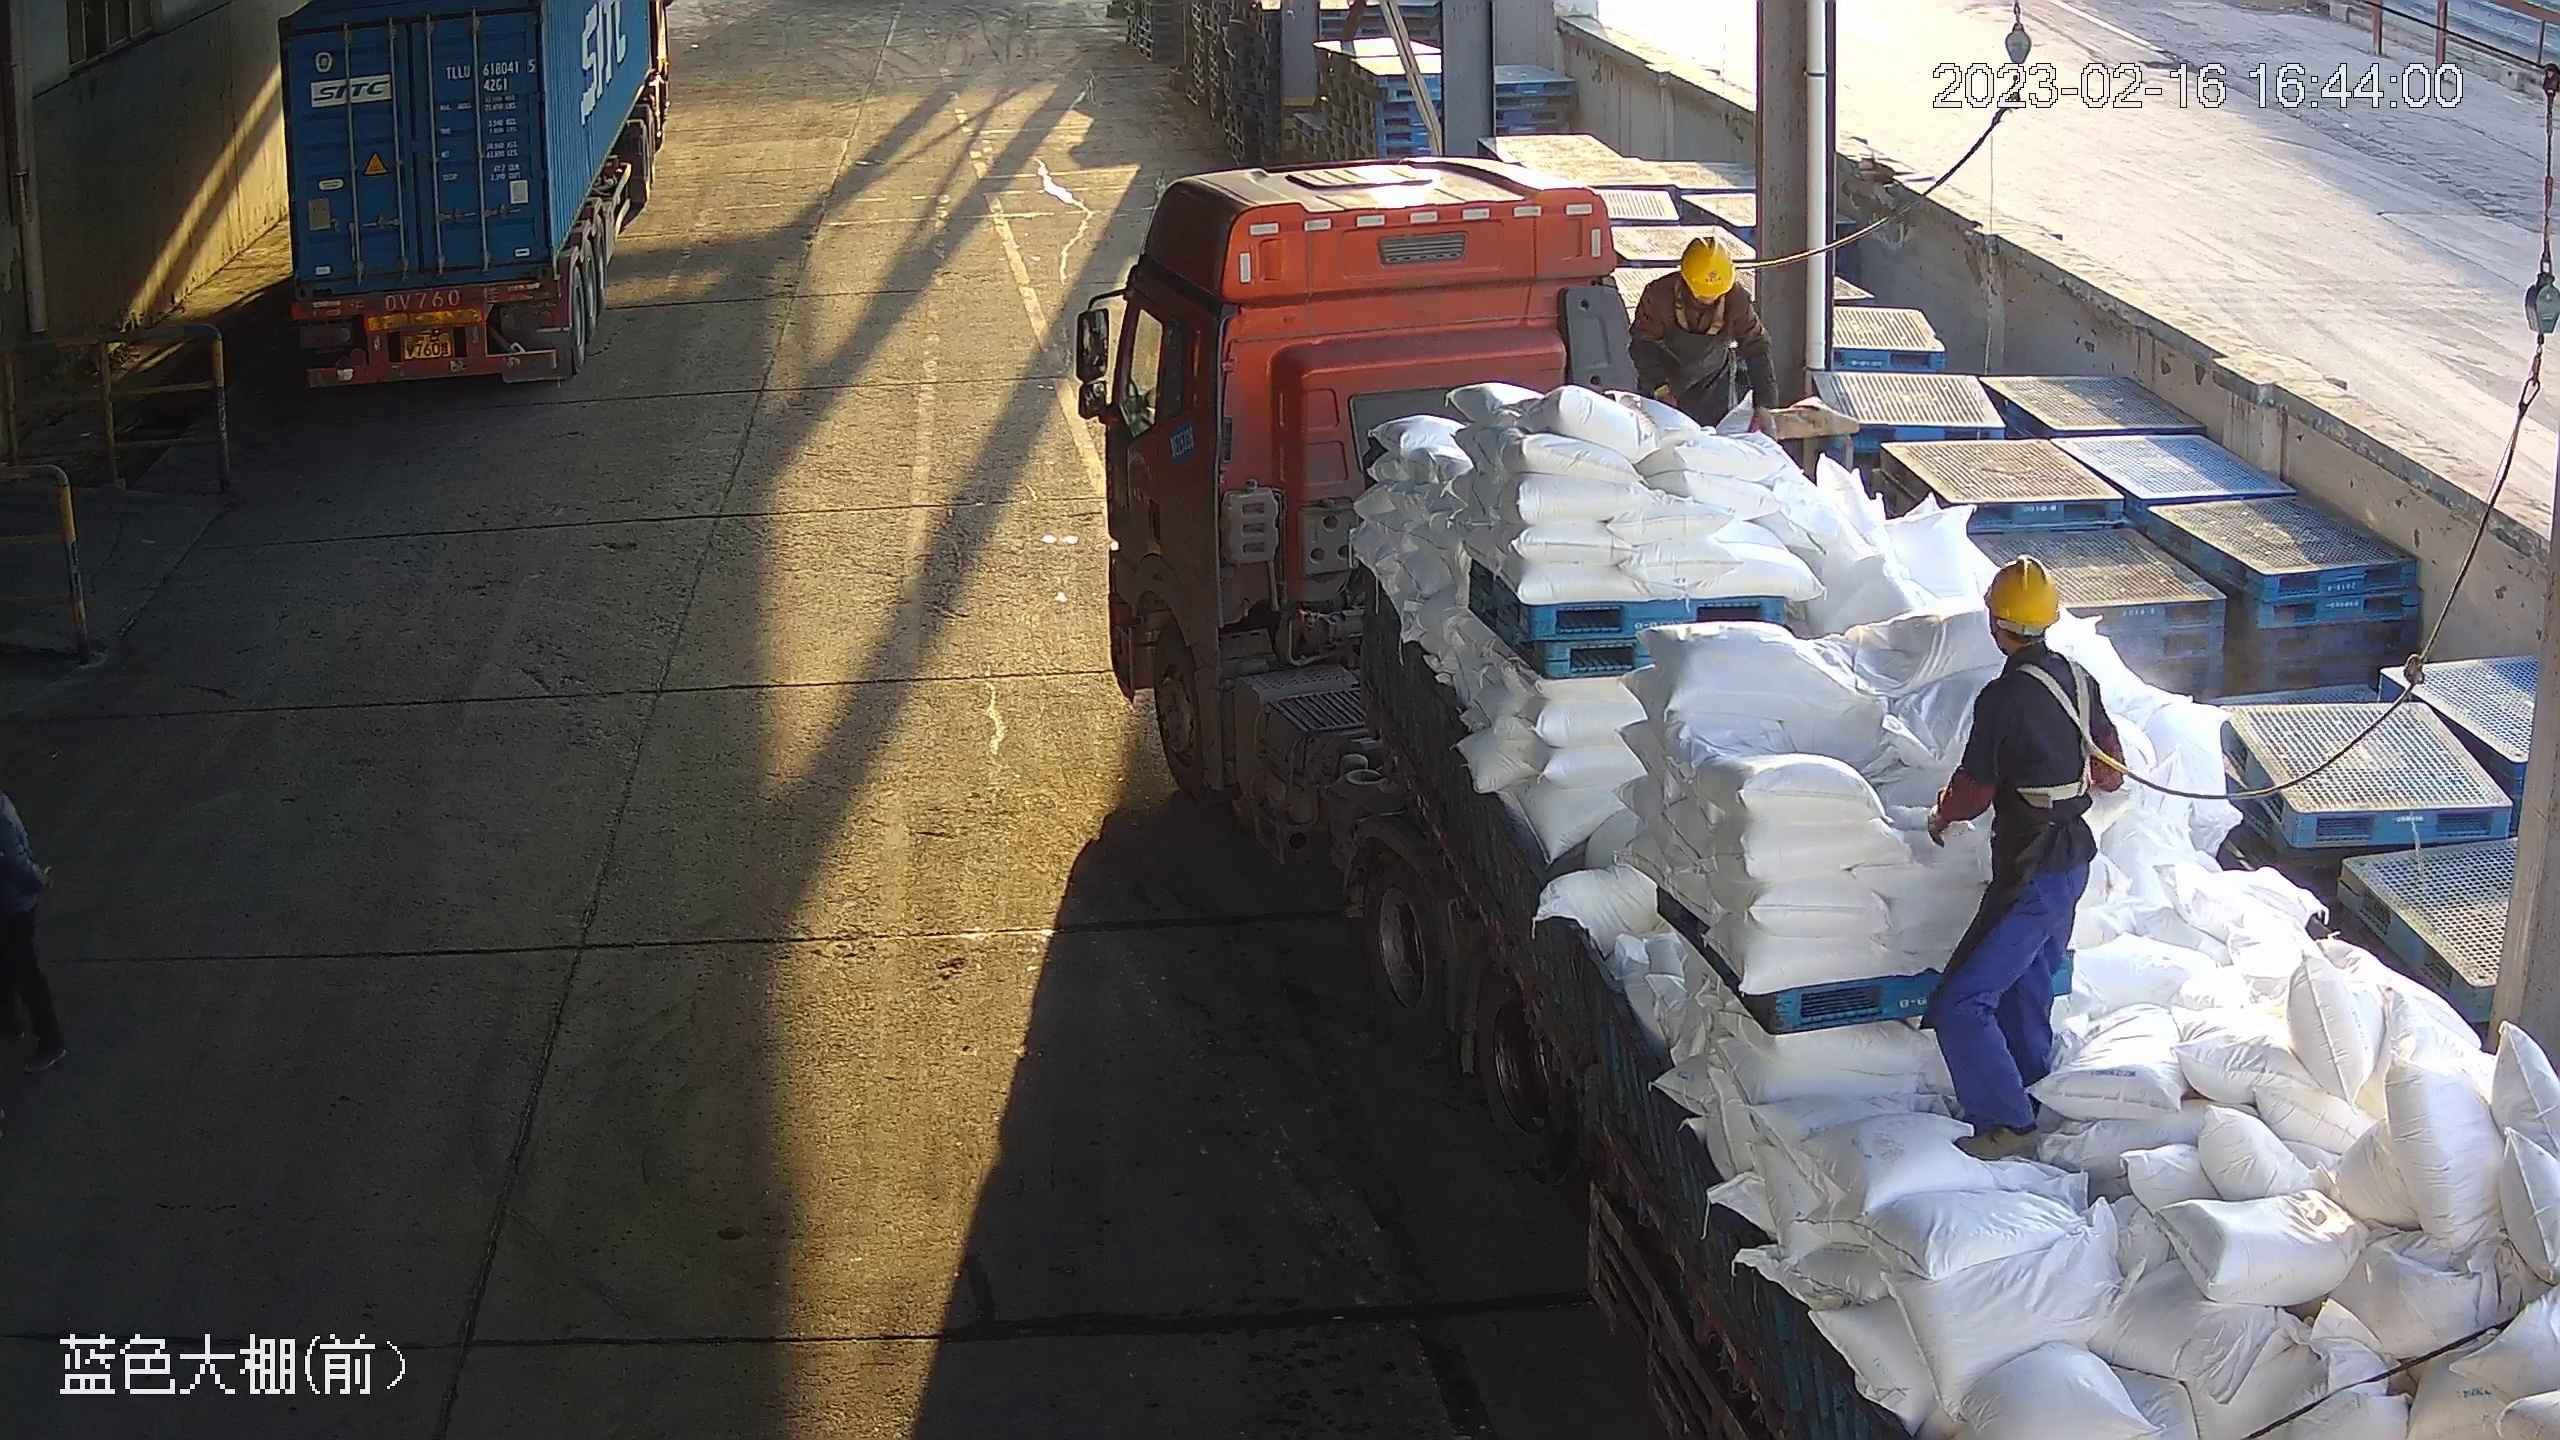belt: (2012, 656, 2125, 812), (1664, 271, 1733, 344)
head: (1953, 555, 2123, 729), (1635, 240, 1768, 338)
helmet: (1973, 553, 2070, 636), (1673, 236, 1748, 297)
people: (1927, 549, 2125, 1175), (1629, 233, 1785, 453)
truck: (1068, 173, 2560, 1440), (264, 1, 671, 401)
